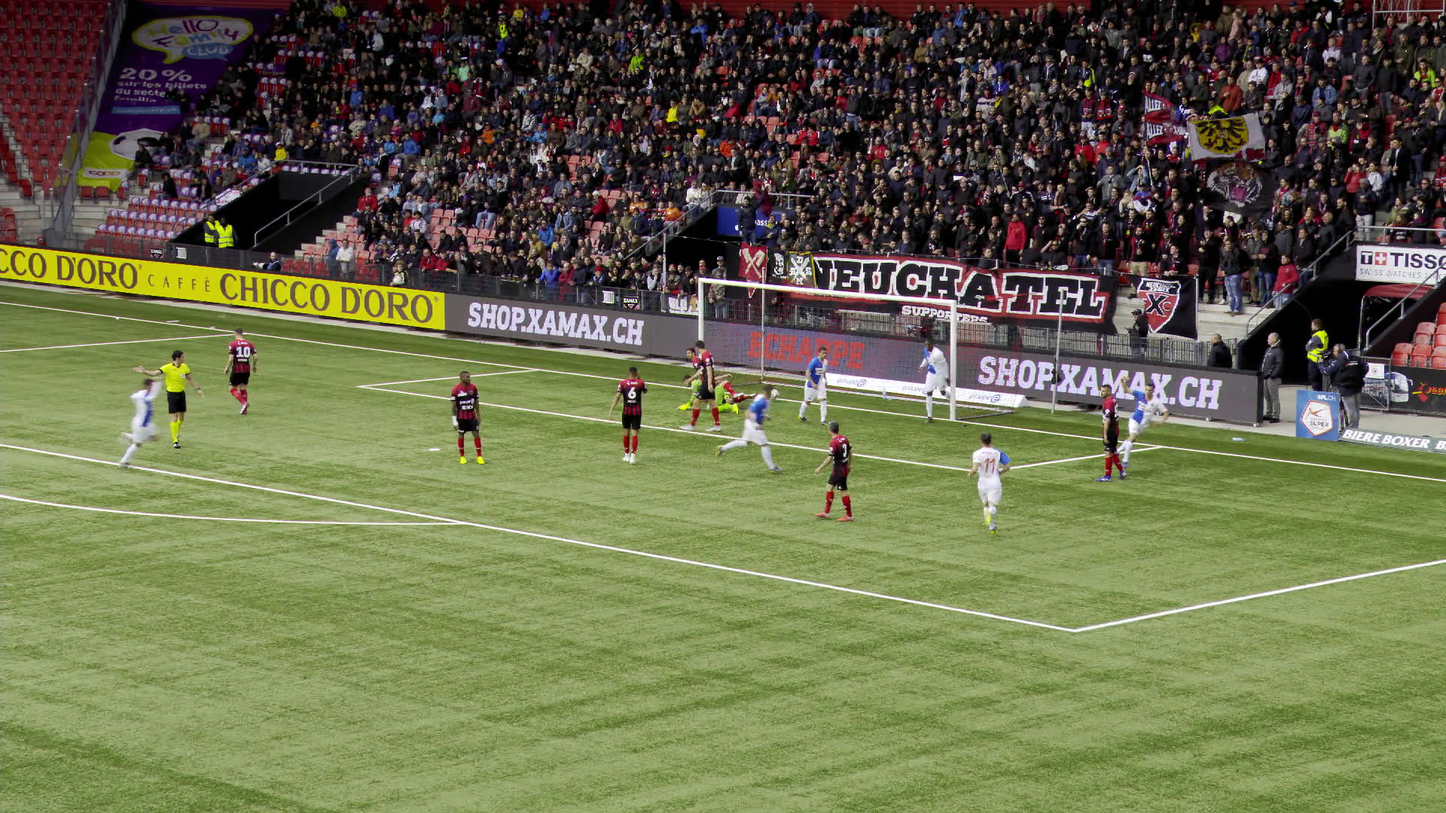ball: (771, 391, 781, 399)
player: (86, 373, 162, 466), (713, 383, 769, 470), (966, 434, 1008, 545), (1117, 378, 1164, 464), (611, 365, 648, 464), (817, 421, 853, 521), (450, 370, 485, 464), (1093, 384, 1127, 480), (226, 327, 259, 417), (920, 336, 956, 417), (689, 340, 720, 431), (799, 344, 833, 425), (680, 377, 734, 411), (677, 355, 715, 388), (711, 378, 748, 405)
referee: (134, 350, 200, 448)
